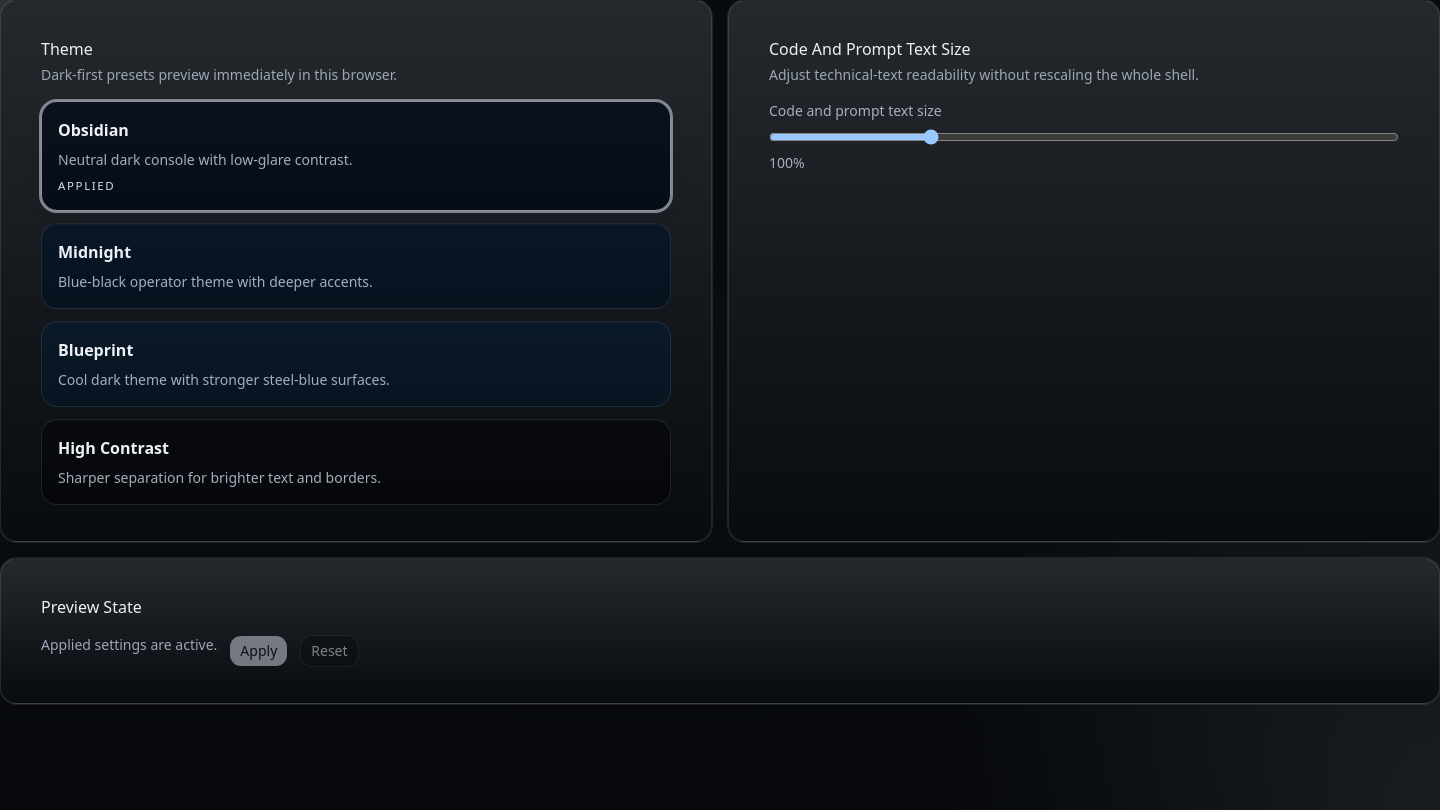
Test case: UISettingsSection › keeps preview state separate and restores applied values on reset
Click the button "Midnight" at (95, 252), box [41,223,671,309]
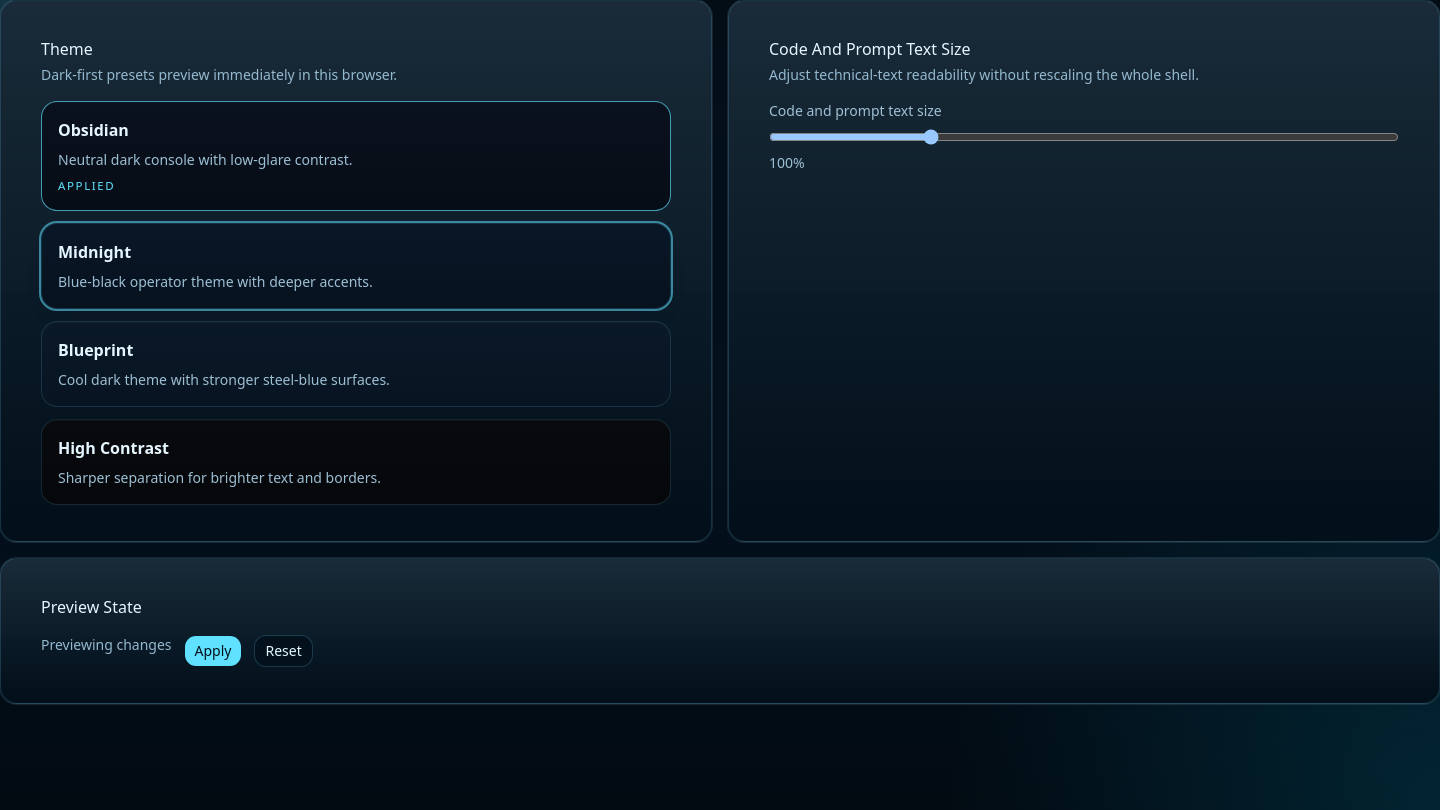
Set the slider labelled "Code and prompt text size" to "120" at (1238, 137), box [769,129,1399,145]
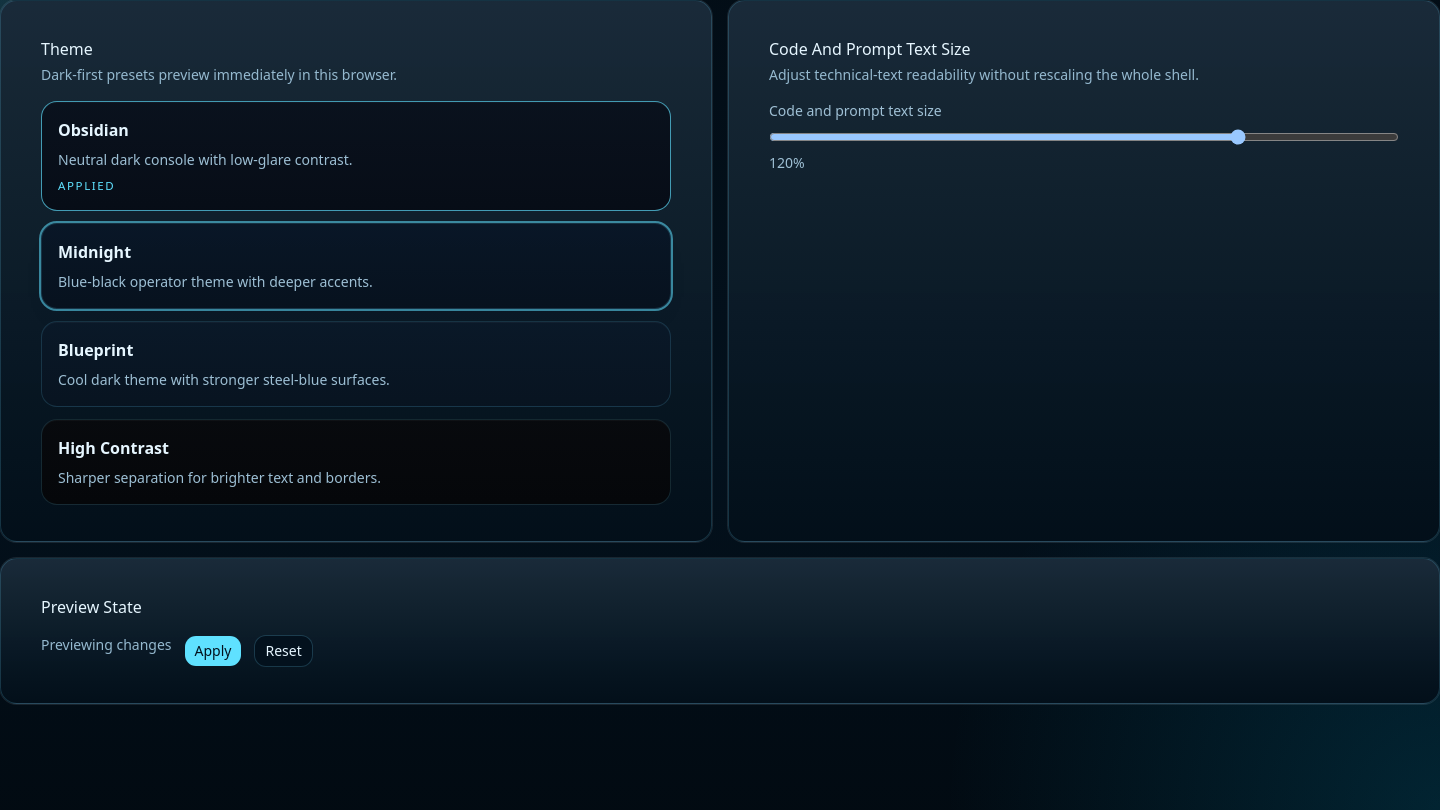
Expected: the text "Previewing changes" is shown, [41,635,172,654]
Expected: the button "Apply" is enabled, [184,635,242,667]
Expected: the button "Reset" is enabled
Click the button "Reset" at (284, 651), box [254,635,313,667]
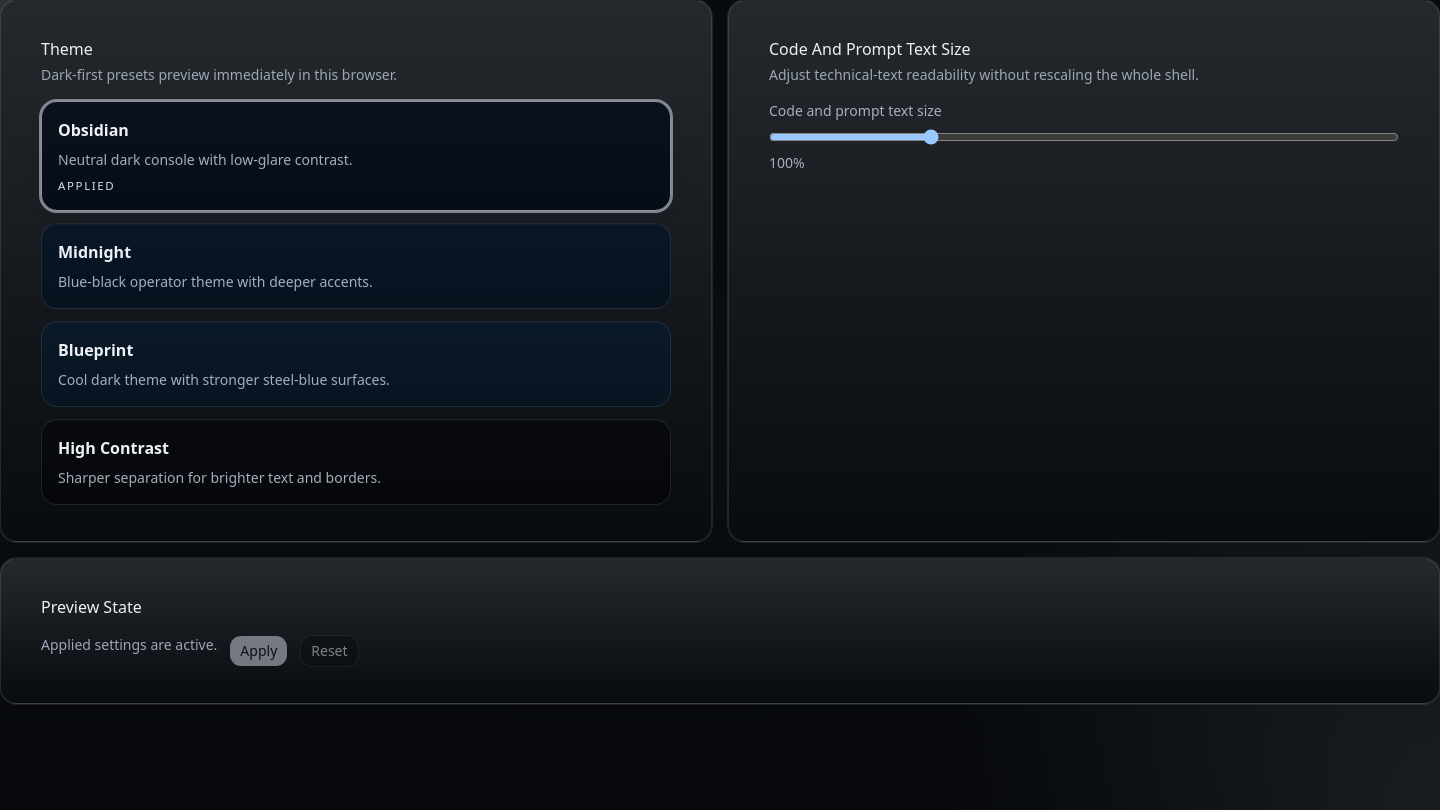
Expected: the text "Applied settings are active." is shown, [41,635,217,654]
Expected: the button "Apply" is disabled, [229,635,288,667]
Expected: the button "Reset" is disabled, [300,635,359,667]
